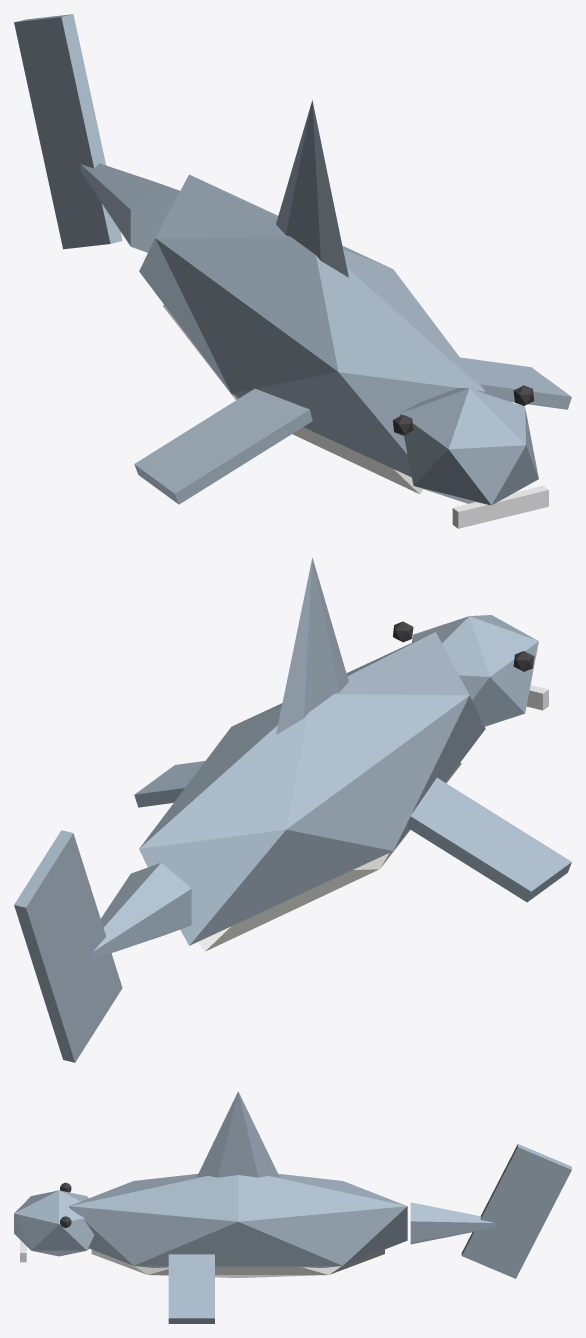
File: Shark.fbx
3 views of the same model, one above another, from view 1: azimuth 30°, elevation 25°; view 2: azimuth 150°, elevation 25°; view 3: azimuth 270°, elevation 25° (orthographic). The views are drawn at different scales.
Parts seen in each view (by area): view 1: Body, Limb_Tail, Limb_Fin; view 2: Body, Limb_Tail, Limb_Fin; view 3: Body, Limb_Tail, Limb_Fin.
Boxes of the visible parts, x1,y1,x2,y2 form: Body: [134, 174, 571, 528]; Limb_Tail: [14, 14, 179, 252]; Limb_Fin: [276, 100, 348, 277]; Body: [134, 615, 571, 951]; Limb_Tail: [14, 830, 191, 1062]; Limb_Fin: [276, 557, 348, 734]; Body: [14, 1173, 407, 1323]; Limb_Tail: [410, 1144, 571, 1278]; Limb_Fin: [196, 1091, 279, 1177].
Bounding box in the file's own units: 1.97 × 1.56 × 4.21.
